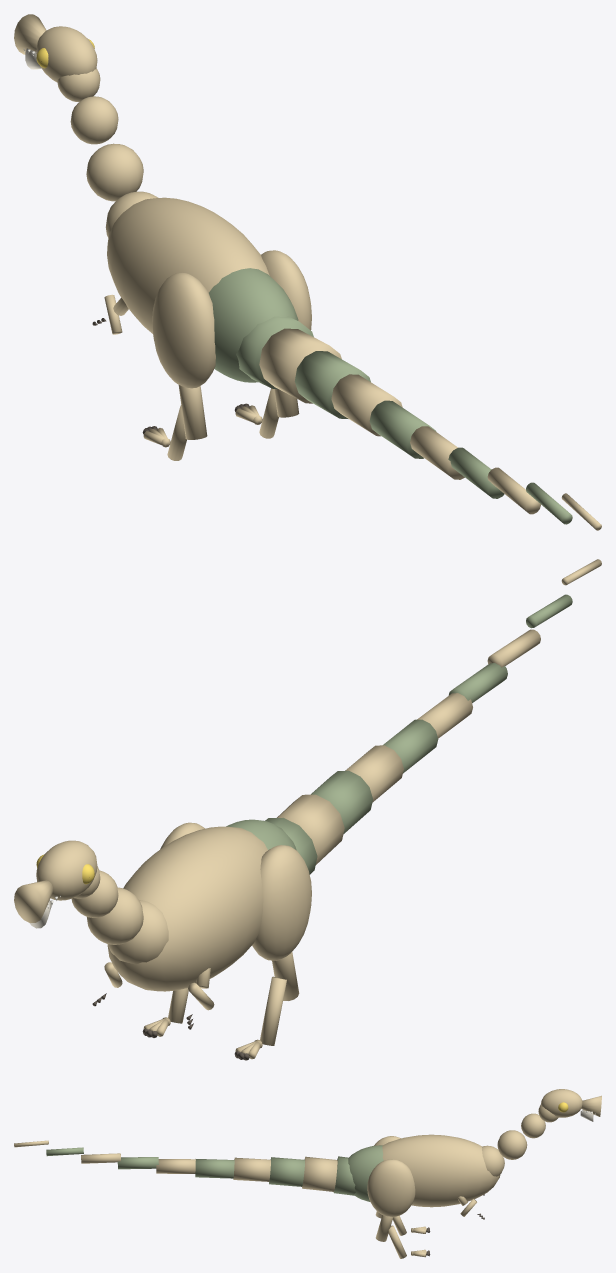
Rendered from compsognathus.glb.
The picture shows the model from 3 angles, top to bottom: view 1: azimuth 30°, elevation 25°; view 2: azimuth 150°, elevation 25°; view 3: azimuth 270°, elevation 25°; orthographic projection. The views are drawn at different scales.
Visible parts, largest first — view 1: Torso, Thigh_R, Pelvis, Tail_1, Neck_1, Tail_2, Cranium, Tail_3, Thigh_L, Neck_2, Tail_4, Tail_0 (+8 smaller); view 2: Torso, Thigh_R, Cranium, Tail_1, Tail_2, Neck_0, Neck_1, Tail_3, Tail_4, Tail_5, Snout, Neck_2 (+7 smaller); view 3: Torso, Thigh_L, Pelvis, Tail_1, Tail_2, Cranium, Tail_3, Tail_4, Neck_1, Tail_0, Tail_5, Neck_0 (+7 smaller).
Part boxes in pixels (x1,y1,x2,y2): Torso: (107,197,269,333); Thigh_R: (152,273,215,388); Pelvis: (209,268,298,382); Tail_1: (259,328,341,403); Neck_1: (86,143,143,201); Tail_2: (294,351,370,418); Cranium: (36,26,97,82); Tail_3: (331,374,402,436); Thigh_L: (261,250,311,330); Neck_2: (70,96,118,144); Tail_4: (369,400,436,458); Tail_0: (236,316,313,389); Torso: (107,826,267,991); Thigh_R: (252,845,311,960); Cranium: (36,840,97,900); Tail_1: (277,794,344,864); Tail_2: (311,770,372,834); Neck_0: (107,900,168,964); Neck_1: (87,887,143,944); Tail_3: (345,745,403,802); Tail_4: (383,719,438,773); Tail_5: (417,693,472,738); Snout: (14,880,53,922); Neck_2: (71,870,118,917); Torso: (382,1134,500,1207); Thigh_L: (367,1159,415,1216); Pelvis: (348,1145,383,1201); Tail_1: (302,1156,337,1191); Tail_2: (269,1157,304,1186); Cranium: (541,1089,582,1117); Tail_3: (233,1157,270,1181); Tail_4: (195,1159,234,1178); Neck_1: (497,1130,527,1159); Tail_0: (333,1156,355,1195); Tail_5: (156,1159,195,1173); Neck_0: (482,1145,504,1176).
Size of the model in its own units: 0.6704 by 1.39 by 4.73.
